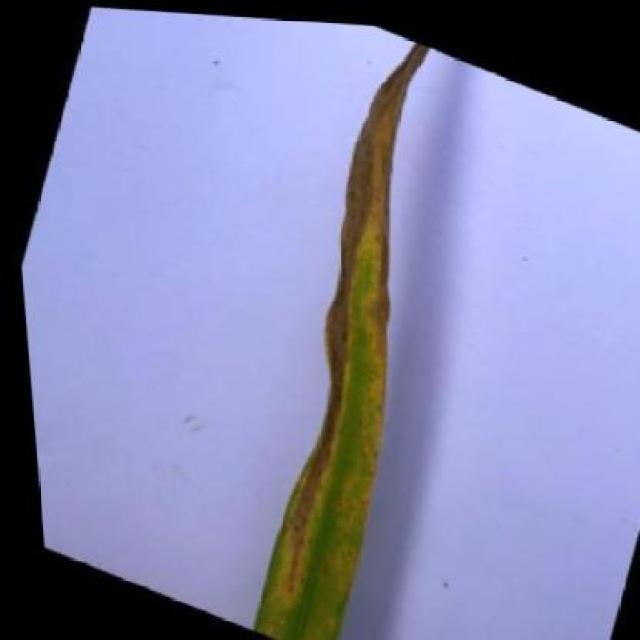Rice False Smut: (177, 15, 532, 640)
